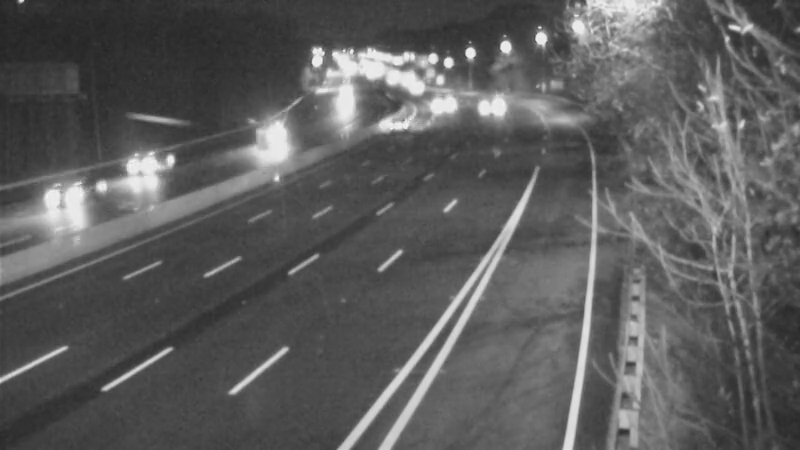vehicle: (25, 156, 105, 236), (107, 123, 187, 203), (424, 65, 474, 115), (457, 80, 507, 130), (383, 93, 433, 143), (269, 106, 319, 156)
